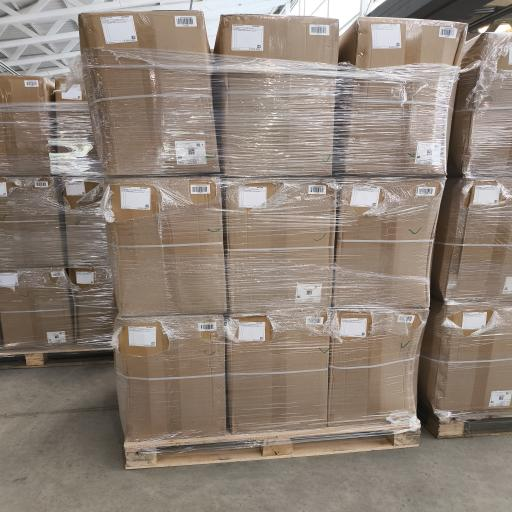pallet: (125, 425, 419, 469), (418, 403, 511, 439), (0, 347, 113, 369)
